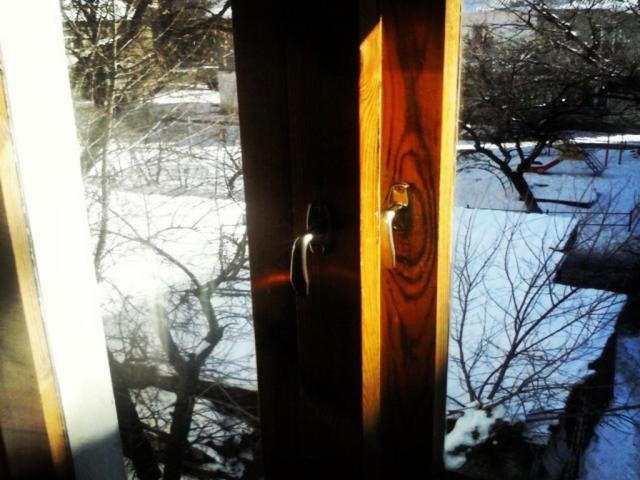Door-handle: (380, 180, 409, 268), (287, 196, 312, 298)
